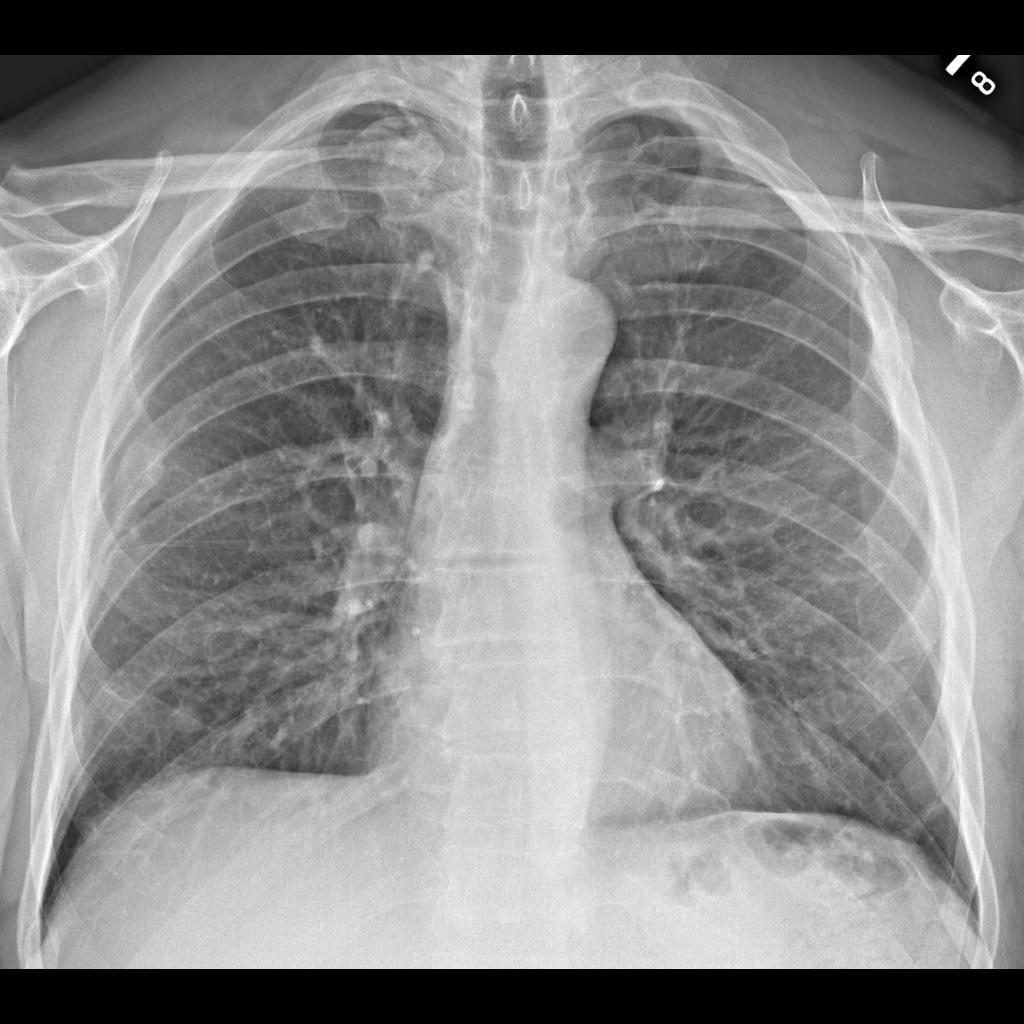Nodule: (158, 693, 210, 745), (404, 245, 443, 285)
